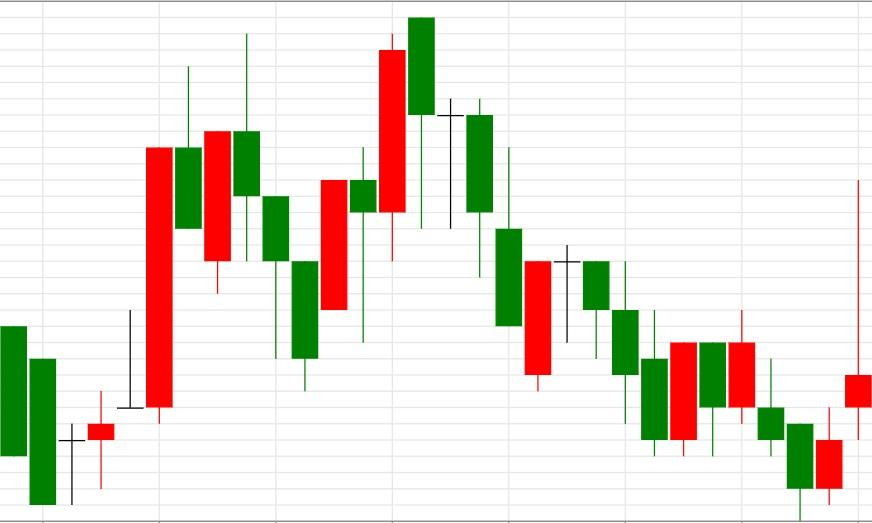three_black_crows_fall: (28, 34, 319, 506)
